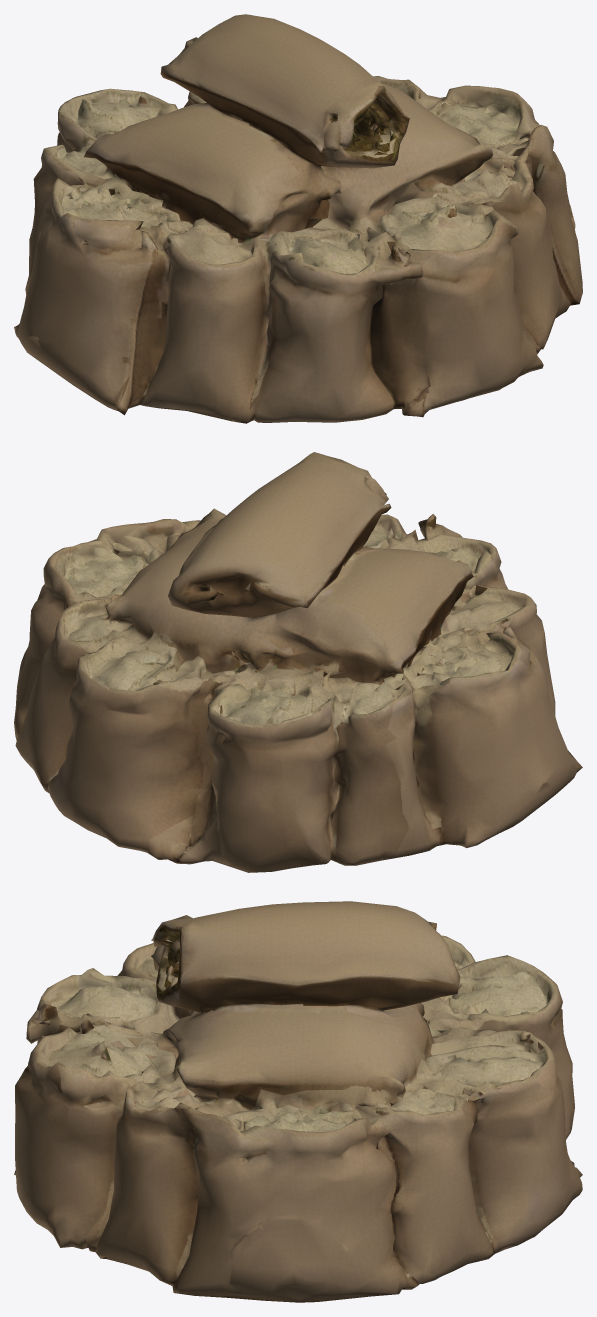
File: bolsas.glb
3 views of the same model, one above another, from view 1: azimuth 30°, elevation 25°; view 2: azimuth 150°, elevation 25°; view 3: azimuth 270°, elevation 25° (orthographic). The views are drawn at different scales.
Visible parts, largest first — view 1: temp_mesh.ply; view 2: temp_mesh.ply; view 3: temp_mesh.ply.
Part boxes in pixels (x1,y1,x2,y2): temp_mesh.ply: (14, 14, 582, 423); temp_mesh.ply: (14, 452, 582, 872); temp_mesh.ply: (14, 901, 582, 1302).
Size of the model in its own units: 1.3 by 0.65 by 1.2.
Materials: 1 (1 with a texture image).
